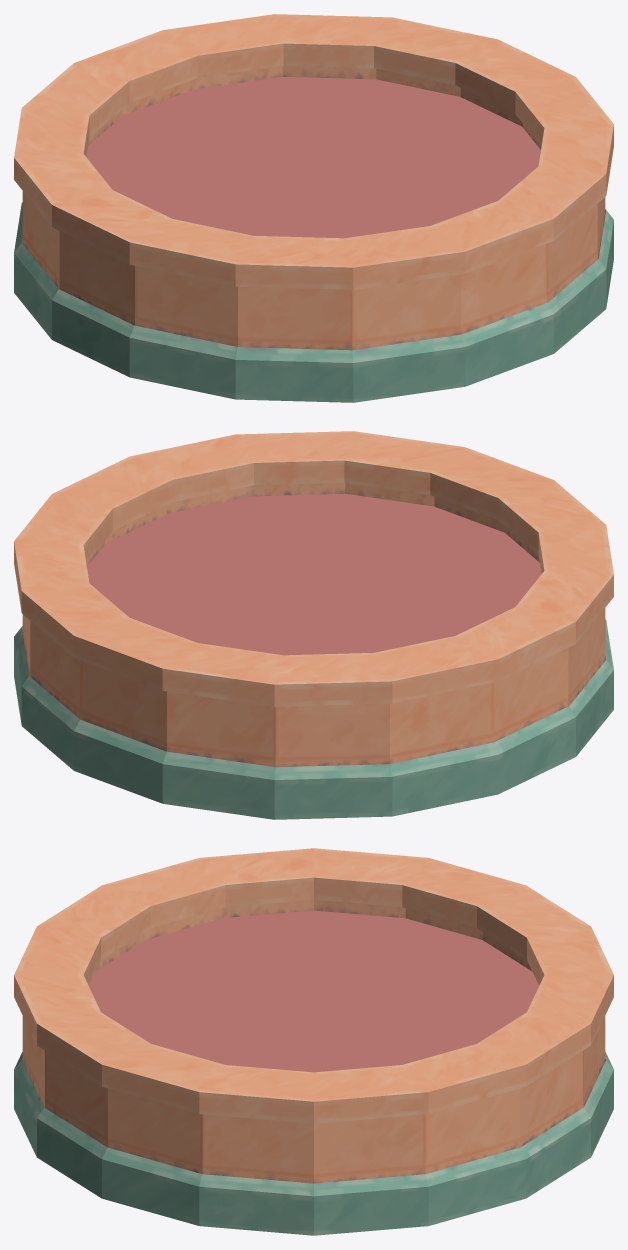
Rendered from vat.fbx.
The picture shows the model from 3 angles, top to bottom: view 1: azimuth 30°, elevation 25°; view 2: azimuth 150°, elevation 25°; view 3: azimuth 270°, elevation 25°; orthographic projection.
Parts seen in each view (by area): view 1: vat; view 2: vat; view 3: vat.
Boxes of the visible parts, <box> form: vat: <box>14,14,613,402</box>; vat: <box>14,431,613,819</box>; vat: <box>14,848,613,1235</box>.
Size of the model in its own units: 6.9 by 1.7 by 6.9.
Materials: 1 (1 with a texture image).
